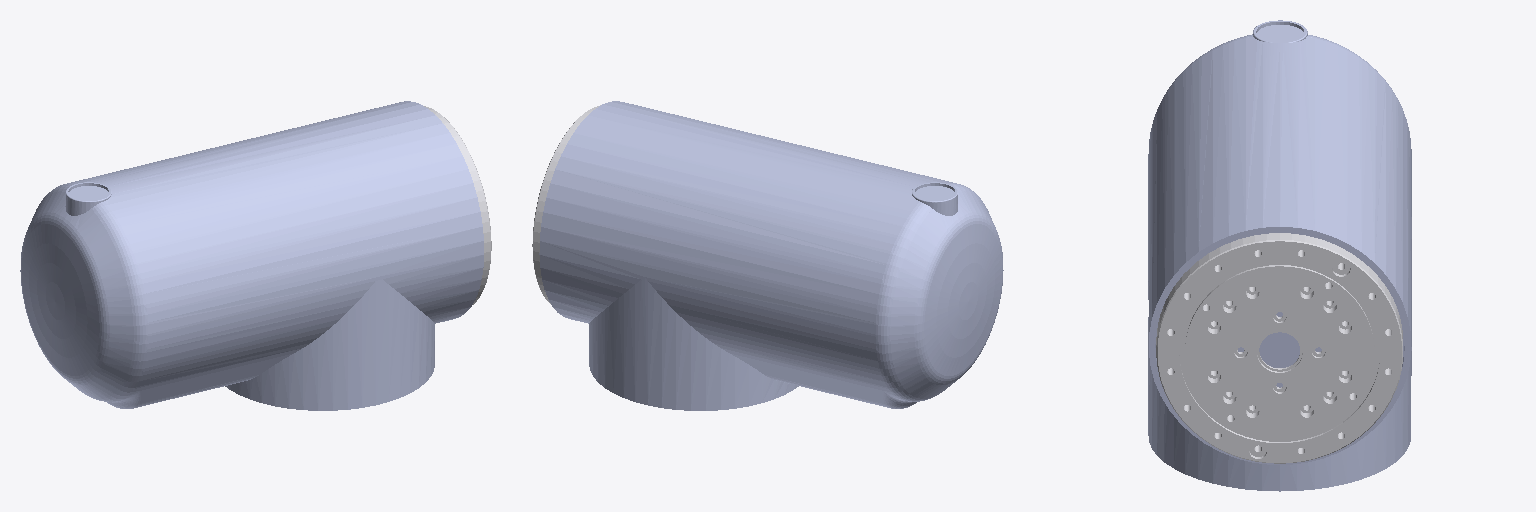
URDF robot description (awjoint2080):
<?xml version="1.0" encoding="utf-8"?>
<!-- This URDF was automatically created by SolidWorks to URDF Exporter! Originally created by [author] ([email redacted]) 
     Commit Version: 1.5.1-0-g916b5db  Build Version: 1.5.7152.31018
     For more information, please see http://wiki.ros.org/sw_urdf_exporter -->
<robot
  name="awjoint2080">
  <link
    name="rifJ20">
    <inertial>
      <origin
        xyz="0 0 -0.06758"
        rpy="0 0 0" />
      <mass
        value="3.87" />
      <inertia
        ixx="0.00670867"
        ixy="5.069E-05"
        ixz="-4.19E-05"
        iyy="0.010865"
        iyz="6.29E-06"
        izz="0.010458" />
    </inertial>
    <visual>
      <origin
        xyz="0 0 0"
        rpy="3.14 0 0" />
      <geometry>
        <mesh
          filename="package://awjoint2080/meshes/rifJ20.STL" />
      </geometry>
      <material
        name="">
        <color
          rgba="0.79216 0.81961 0.93333 1" />
      </material>
    </visual>
    <collision>
      <origin
        xyz="0 0 0"
        rpy="3.14 0 0" />
      <geometry>
        <mesh
          filename="package://awjoint2080/meshes/rifJ20.STL" />
      </geometry>
    </collision>
  </link>
  <link
    name="J20">
    <inertial>
      <origin
        xyz="0 0 -0.007"
        rpy="0 0 0" />
      <mass
        value="0.26" />
      <inertia
        ixx="0.000225"
        ixy="-5.2E-07"
        ixz="0"
        iyy="0.000225"
        iyz="0"
        izz="0.00042986" />
    </inertial>
    <visual>
      <origin
        xyz="0 0 0"
        rpy="0 0 0" />
      <geometry>
        <mesh
          filename="package://awjoint2080/meshes/J20.STL" />
      </geometry>
      <material
        name="">
        <color
          rgba="0.8902 0.8902 0.91373 1" />
      </material>
    </visual>
    <collision>
      <origin
        xyz="0 0 0"
        rpy="0 0 0" />
      <geometry>
        <mesh
          filename="package://awjoint2080/meshes/J20.STL" />
      </geometry>
    </collision>
  </link>
  <joint
    name="J20"
    type="revolute">
    <origin
      xyz="0.069 0 +0.069"
      rpy="0 1.5708 0" />
    <parent
      link="rifJ20" />
    <child
      link="J20" />
    <axis
      xyz="0 0 -1" />
    <limit
      lower="-3.14"
      upper="3.14"
      effort="80"
      velocity="3.61" />
    <dynamics
      damping="1"
      friction="0.1" />
  </joint>
</robot>

--- What the picture shows (computed from the rendered views, not written in the file) ---
Views: 3 orthographic renders of the robot side by side, from view 1: azimuth 30°, elevation 25°; view 2: azimuth 150°, elevation 25°; view 3: azimuth 270°, elevation 25°.
Robot: awjoint2080 — 2 links, 1 joints (1 revolute); root link rifJ20; default pose: all joints at 0.
Visible links, largest first — view 1: rifJ20, J20; view 2: rifJ20, J20; view 3: rifJ20, J20.
Boxes of the visible links, box(x1,y1,x2,y2) form: rifJ20: box(20, 101, 483, 410); J20: box(424, 106, 491, 304); rifJ20: box(539, 101, 1003, 410); J20: box(532, 105, 600, 303); rifJ20: box(1148, 20, 1411, 491); J20: box(1156, 233, 1402, 463).
Size in the robot's own frame: 0.2281 by 0.1151 by 0.1301 metres.
Meshes: 2 distinct files referenced, 2 mesh visuals loaded (2 binary STL).
